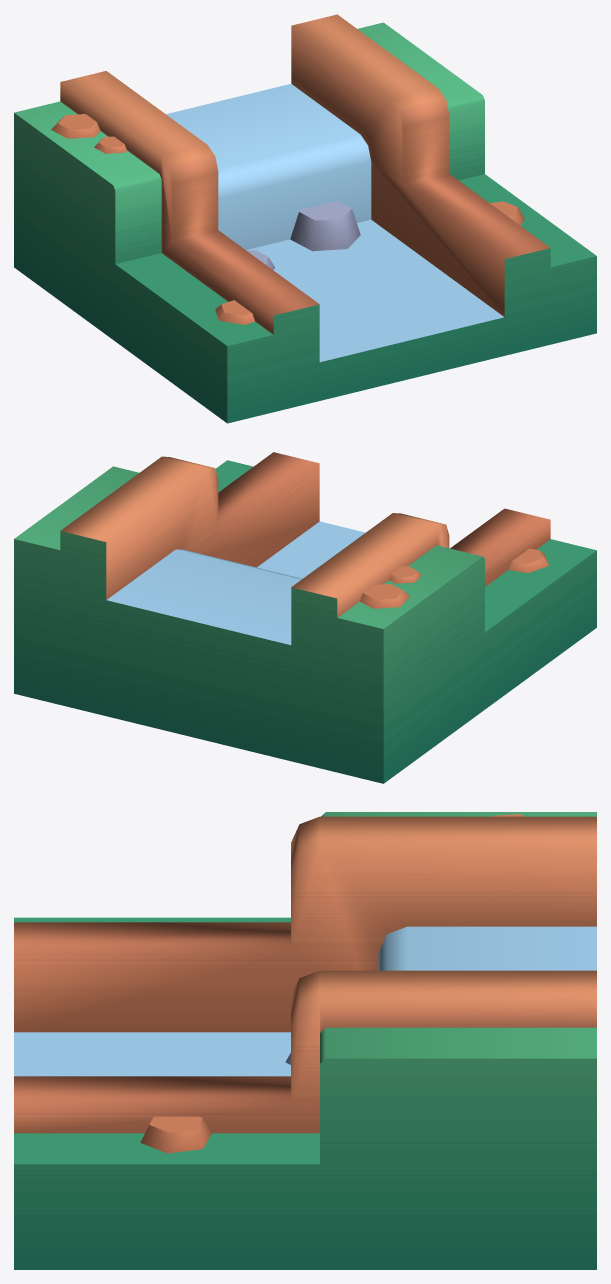
Rendered from tile-river-waterfall.glb.
3 renders of one model, top to bottom at view 1: azimuth 30°, elevation 25°; view 2: azimuth 150°, elevation 25°; view 3: azimuth 270°, elevation 25°, orthographic. The views are drawn at different scales.
Visible parts, largest first — view 1: tile-river-waterfall; view 2: tile-river-waterfall; view 3: tile-river-waterfall.
Part boxes in pixels (x1,y1,x2,y2): tile-river-waterfall: (14,14,596,423); tile-river-waterfall: (14,452,596,783); tile-river-waterfall: (14,812,596,1269).
Bounding box in the file's own units: 1 × 0.45 × 1.
1 material, 1 textured.
